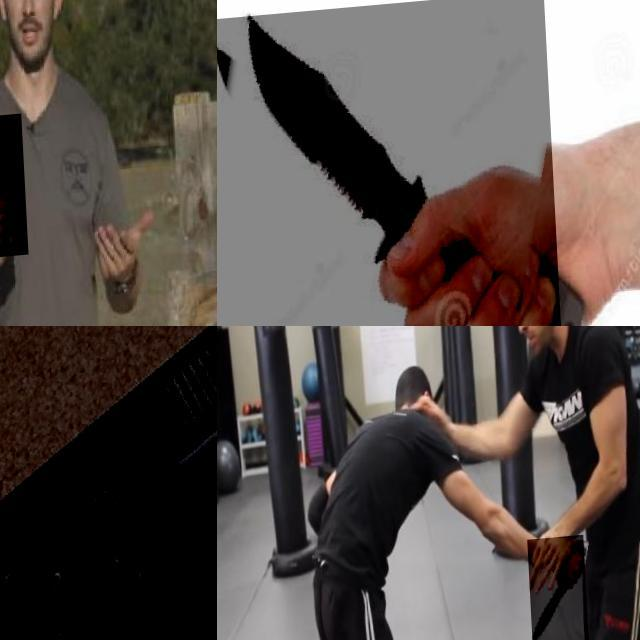-: (217, 0, 558, 326), (523, 543, 583, 640), (0, 118, 29, 263)
gun-knife-thesis - v11 Yolov5 augmented: (0, 326, 217, 640)
